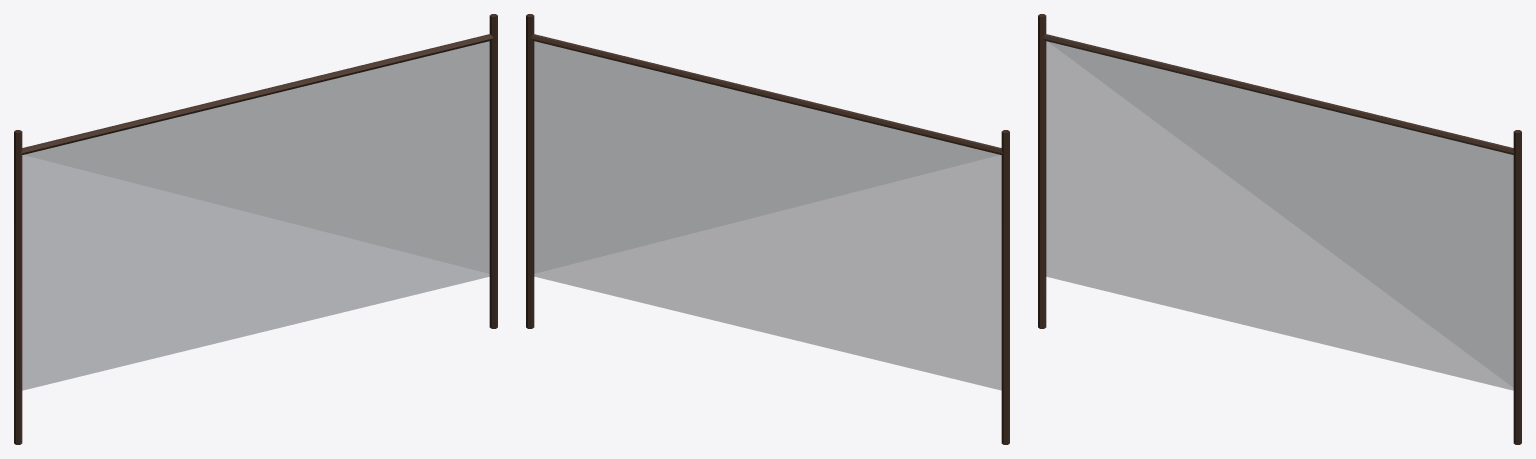
The model's file is lf_metal_fence_both_sides_topbar.glb.
The picture shows the model from 3 angles, left to right: view 1: azimuth 30°, elevation 25°; view 2: azimuth 150°, elevation 25°; view 3: azimuth 330°, elevation 25°; orthographic projection.
Visible parts, largest first — view 1: metalfence_both_sides_topbar; view 2: metalfence_both_sides_topbar; view 3: metalfence_both_sides_topbar.
Boxes of the visible parts, x1,y1,x2,y2 form: metalfence_both_sides_topbar: [14, 14, 497, 444]; metalfence_both_sides_topbar: [526, 14, 1009, 444]; metalfence_both_sides_topbar: [1038, 14, 1521, 444].
Size of the model in its own units: 2.7 by 1.67 by 0.0401.
